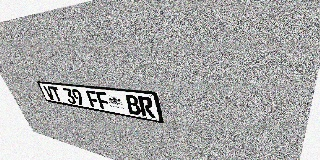plate: (36, 81, 164, 123)
